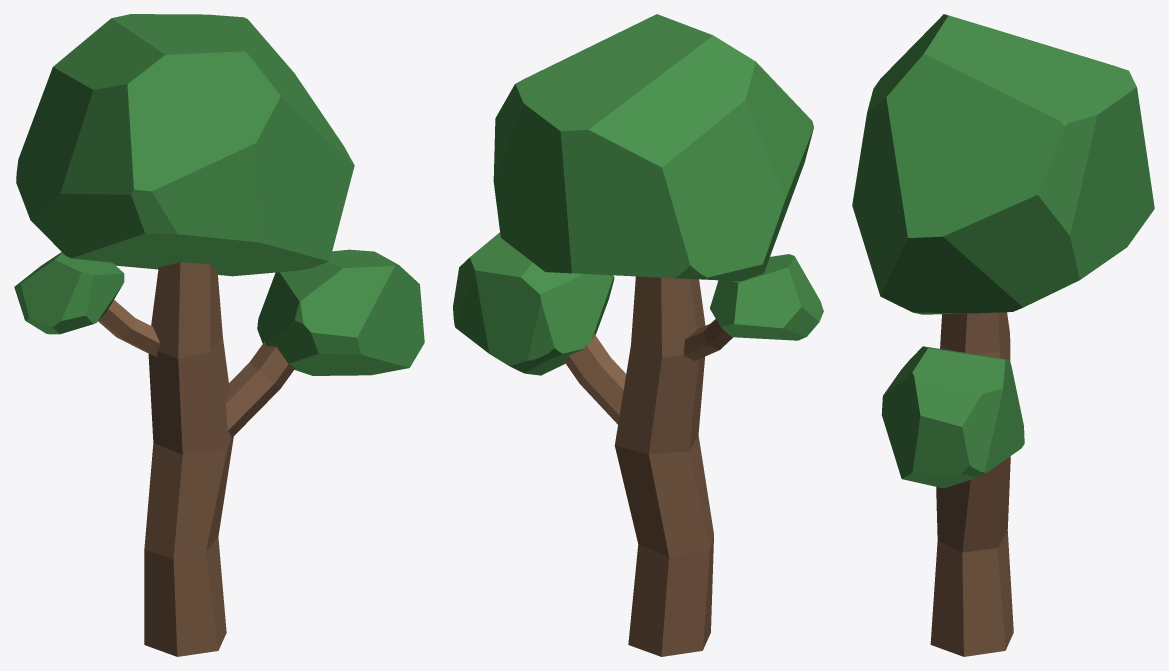
Rendered from tree.glb.
3 renders of one model, left to right at view 1: azimuth 30°, elevation 25°; view 2: azimuth 150°, elevation 25°; view 3: azimuth 270°, elevation 25°, orthographic.
Parts seen in each view (by area): view 1: Leaf3, Trunk, Leaf1, Leaf2, Branch1, Branch2; view 2: Leaf3, Trunk, Leaf1, Leaf2, Branch1, Branch2; view 3: Leaf3, Trunk, Leaf1.
Boxes of the visible parts, <box> form: Leaf3: <box>16,14,354,276</box>; Trunk: <box>144,262,233,656</box>; Leaf1: <box>257,249,424,375</box>; Leaf2: <box>14,252,124,334</box>; Branch1: <box>225,341,295,437</box>; Branch2: <box>98,300,160,356</box>; Leaf3: <box>493,14,813,281</box>; Trunk: <box>614,276,713,656</box>; Leaf1: <box>453,232,614,375</box>; Leaf2: <box>710,254,823,340</box>; Branch1: <box>564,334,626,424</box>; Branch2: <box>683,319,732,360</box>; Leaf3: <box>852,14,1154,314</box>; Trunk: <box>930,312,1013,656</box>; Leaf1: <box>881,346,1024,488</box>.
Bounding box in the file's own units: 1.96 × 3.04 × 1.37.
